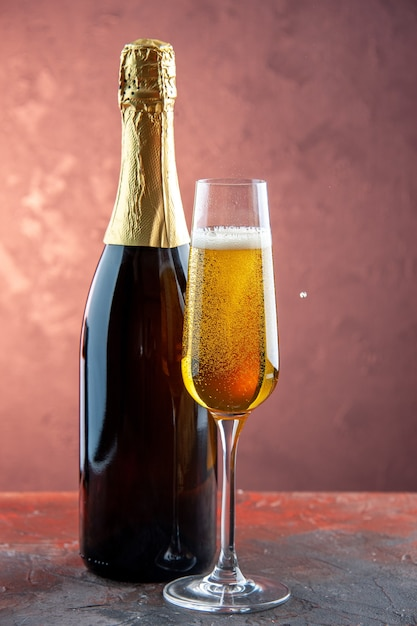alcohol: (78, 39, 219, 583), (166, 179, 288, 613)
